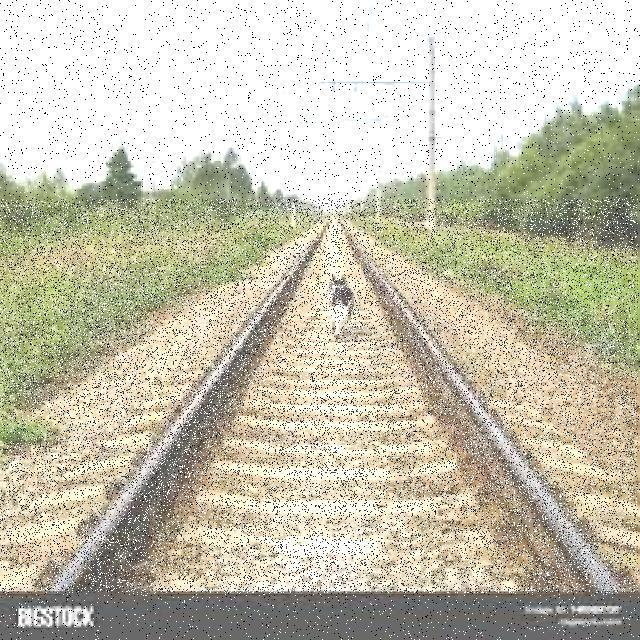danger: (310, 273, 362, 345)
rail: (0, 200, 638, 593)
